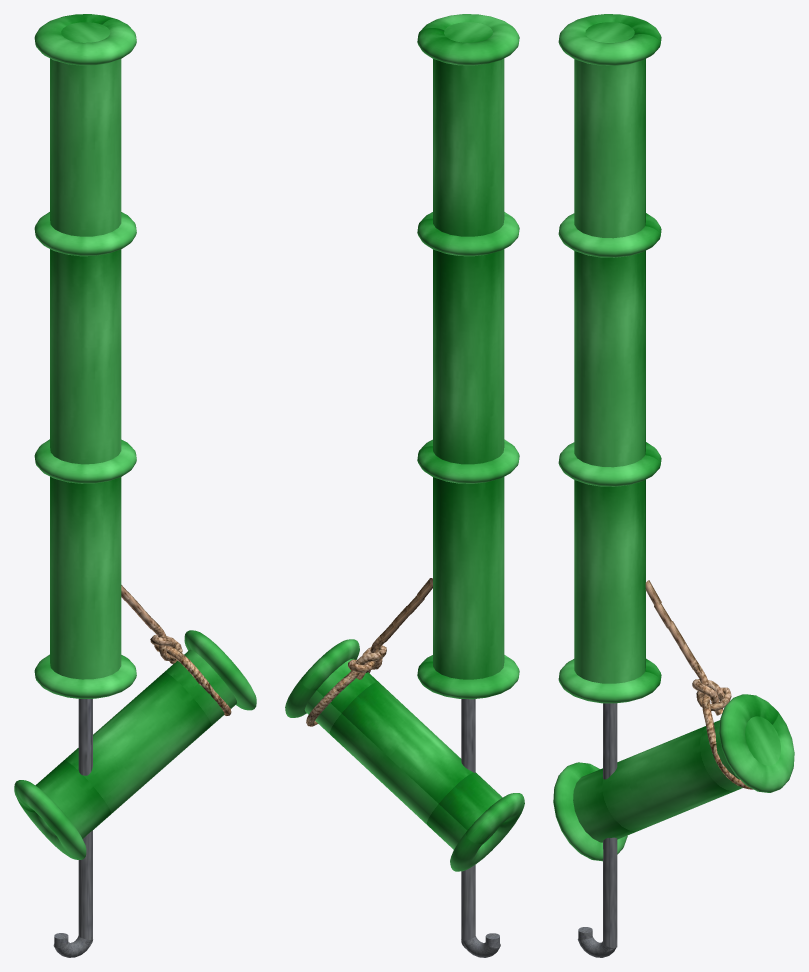
The model's file is EstructuraBambu.obj.
3 renders of one model, left to right at view 1: azimuth 30°, elevation 25°; view 2: azimuth 150°, elevation 25°; view 3: azimuth 330°, elevation 25°, orthographic.
Parts seen in each view (by area): view 1: polySurface15, polySurface11, Gancho:pasted__pCylinder3group10, polySurface17; view 2: polySurface15, polySurface11, Gancho:pasted__pCylinder3group10, polySurface17; view 3: polySurface15, polySurface11, Gancho:pasted__pCylinder3group10, polySurface17.
Boxes of the visible parts, <box> form: polySurface15: <box>34,14,136,698</box>; polySurface11: <box>14,630,256,859</box>; Gancho:pasted__pCylinder3group10: <box>53,699,92,957</box>; polySurface17: <box>121,585,231,715</box>; polySurface15: <box>417,14,519,699</box>; polySurface11: <box>285,639,524,871</box>; Gancho:pasted__pCylinder3group10: <box>461,699,500,957</box>; polySurface17: <box>306,578,433,726</box>; polySurface15: <box>558,14,661,703</box>; polySurface11: <box>553,694,794,861</box>; Gancho:pasted__pCylinder3group10: <box>577,703,617,957</box>; polySurface17: <box>645,580,753,789</box>.
Bounding box in the file's own units: 2.04 × 8.14 × 0.9538.
Materials: 3 (3 with a texture image).
